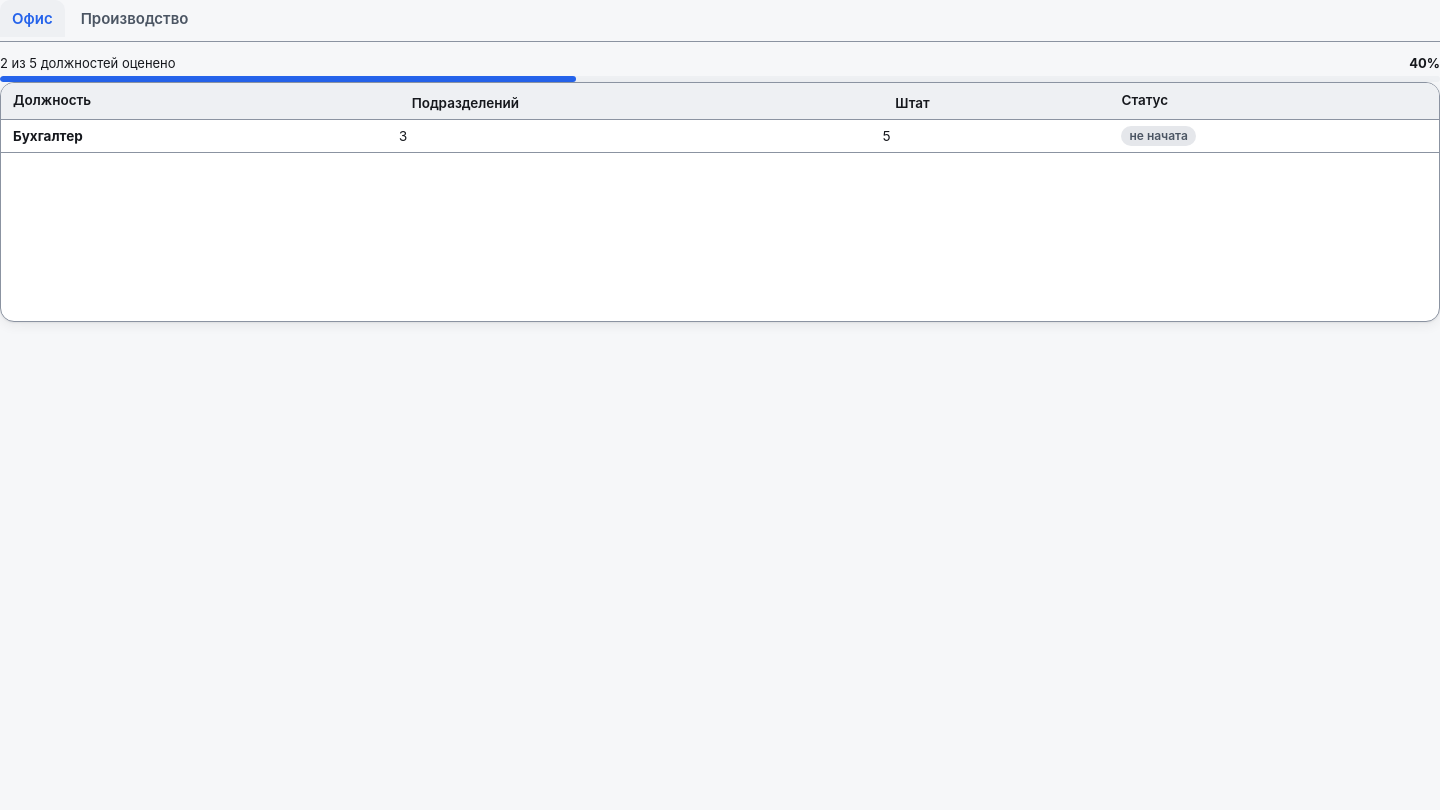
Test case: клик по должности открывает анкету
Click the text "Бухгалтер": [48, 136] box left=13, top=128, right=83, bottom=144
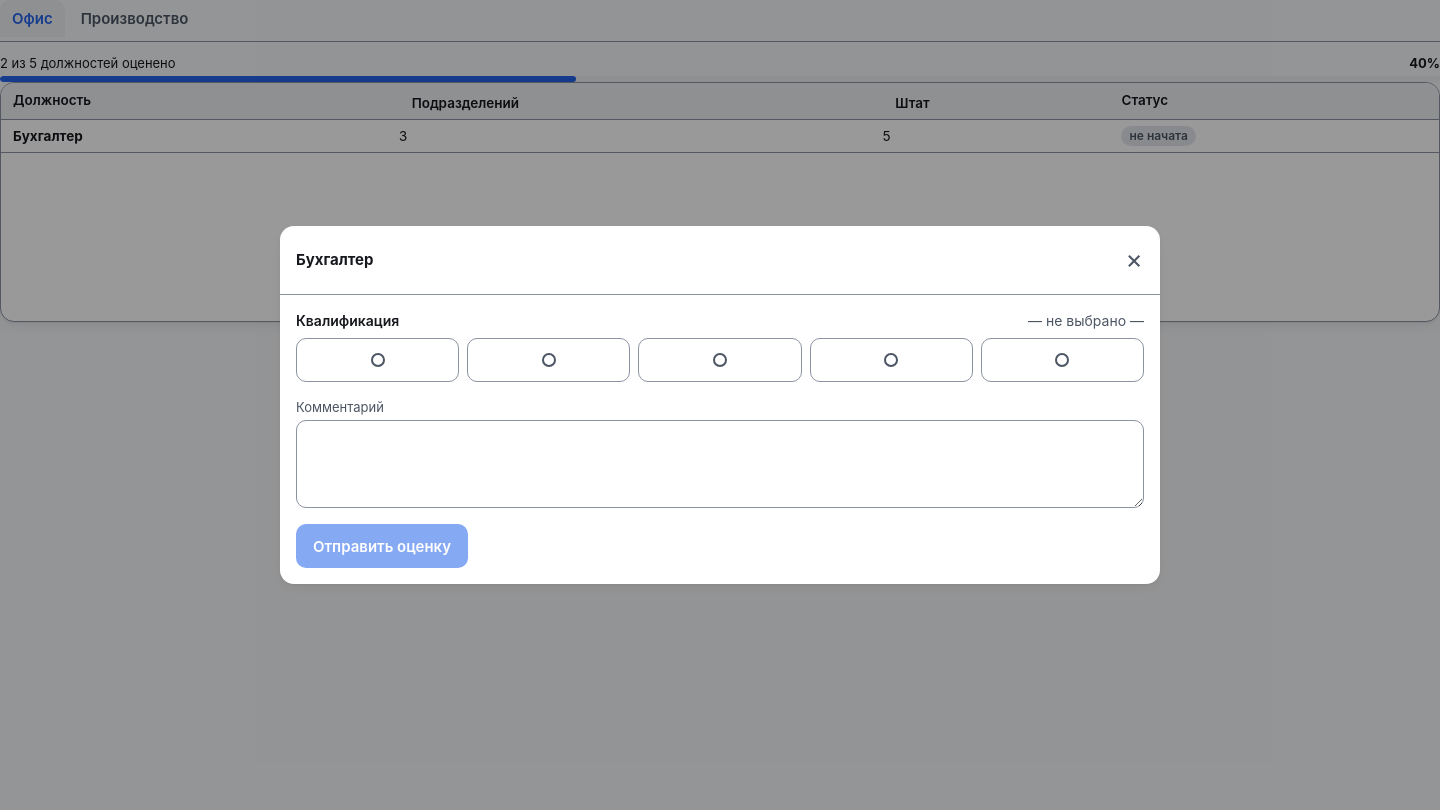
Expected: the dialog "Бухгалтер" is shown, left=280, top=226, right=1160, bottom=584
Expected: the text "Квалификация" is shown, left=296, top=311, right=399, bottom=330
